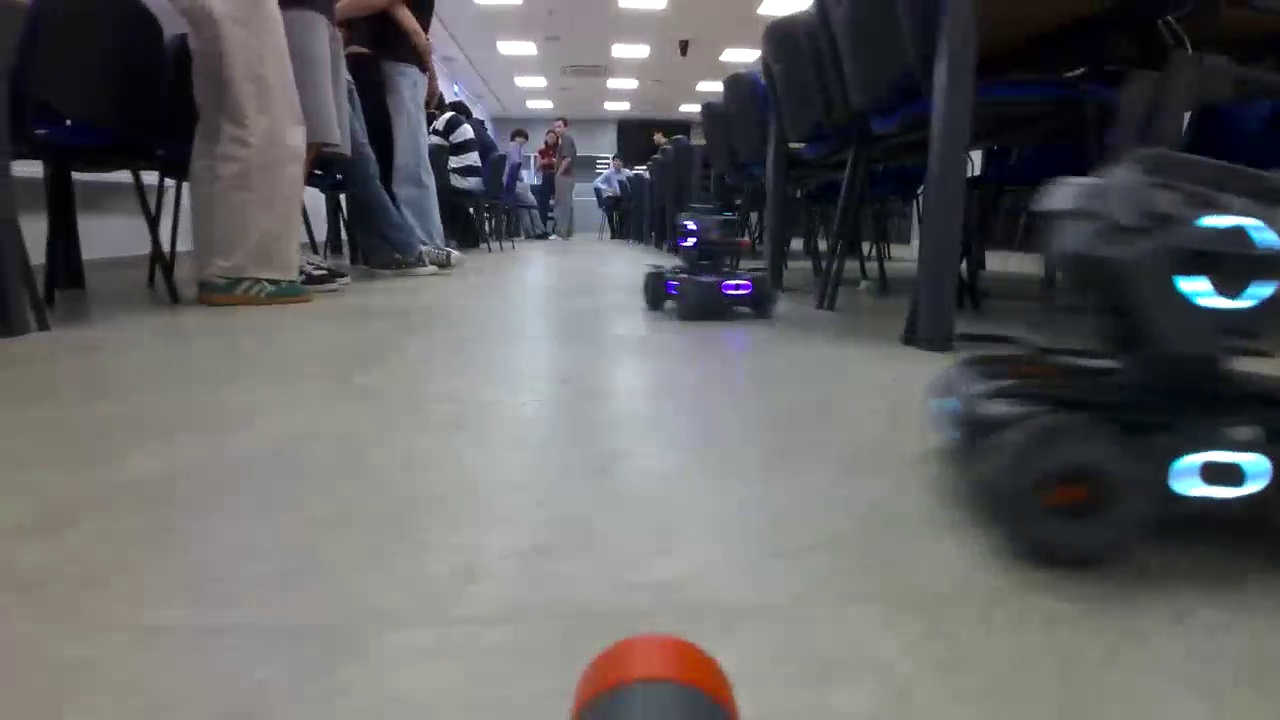robot: (940, 162, 1280, 592), (640, 205, 793, 330)
